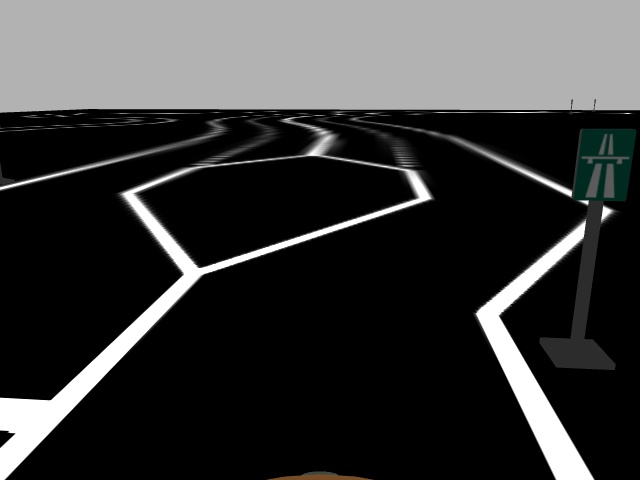enter_highway: (569, 126, 638, 200)
